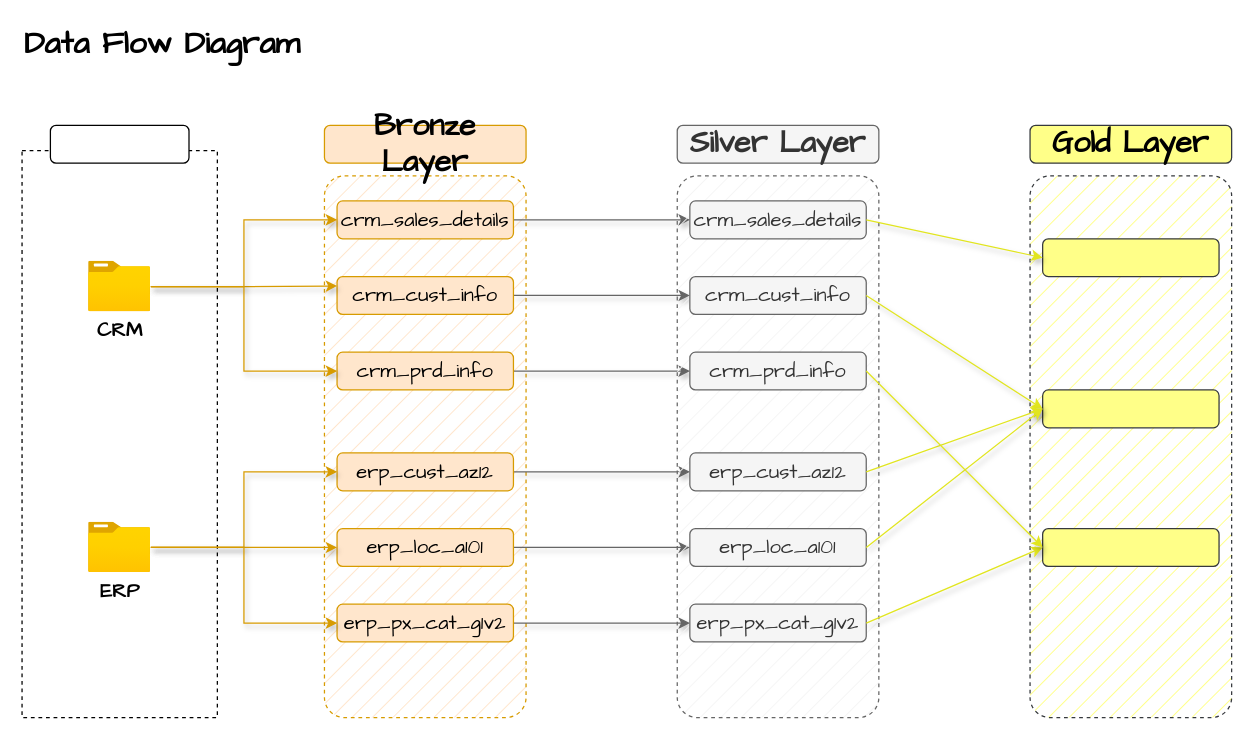
The diagram is 1254 pixels wide and 740 high, and some of its shapes have lost their labels. Each missing label, with the centre of its shape:
dim_customers: point (1130, 408)
dim_producs: point (1130, 546)
fact_sales: point (1130, 257)
Sources: point (119, 143)
